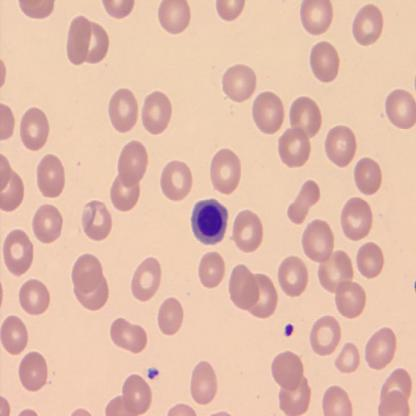NRC: (190, 196, 229, 246)
